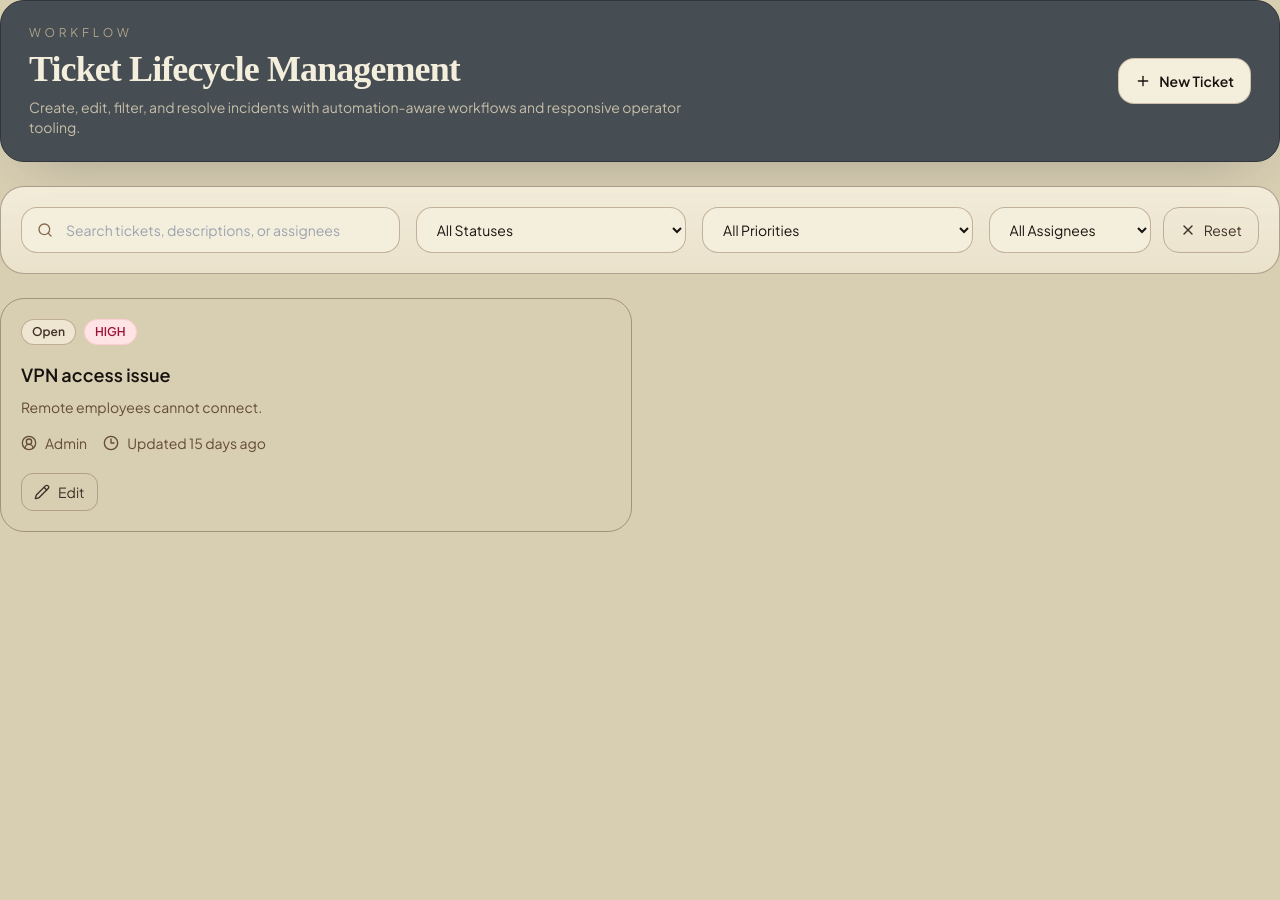
Test: TicketsPage RBAC and CRUD flows › opens the create modal and submits a new ticket
Click the button "New Ticket". click: {"x": 1185, "y": 81}
box: [1118,58,1251,104]
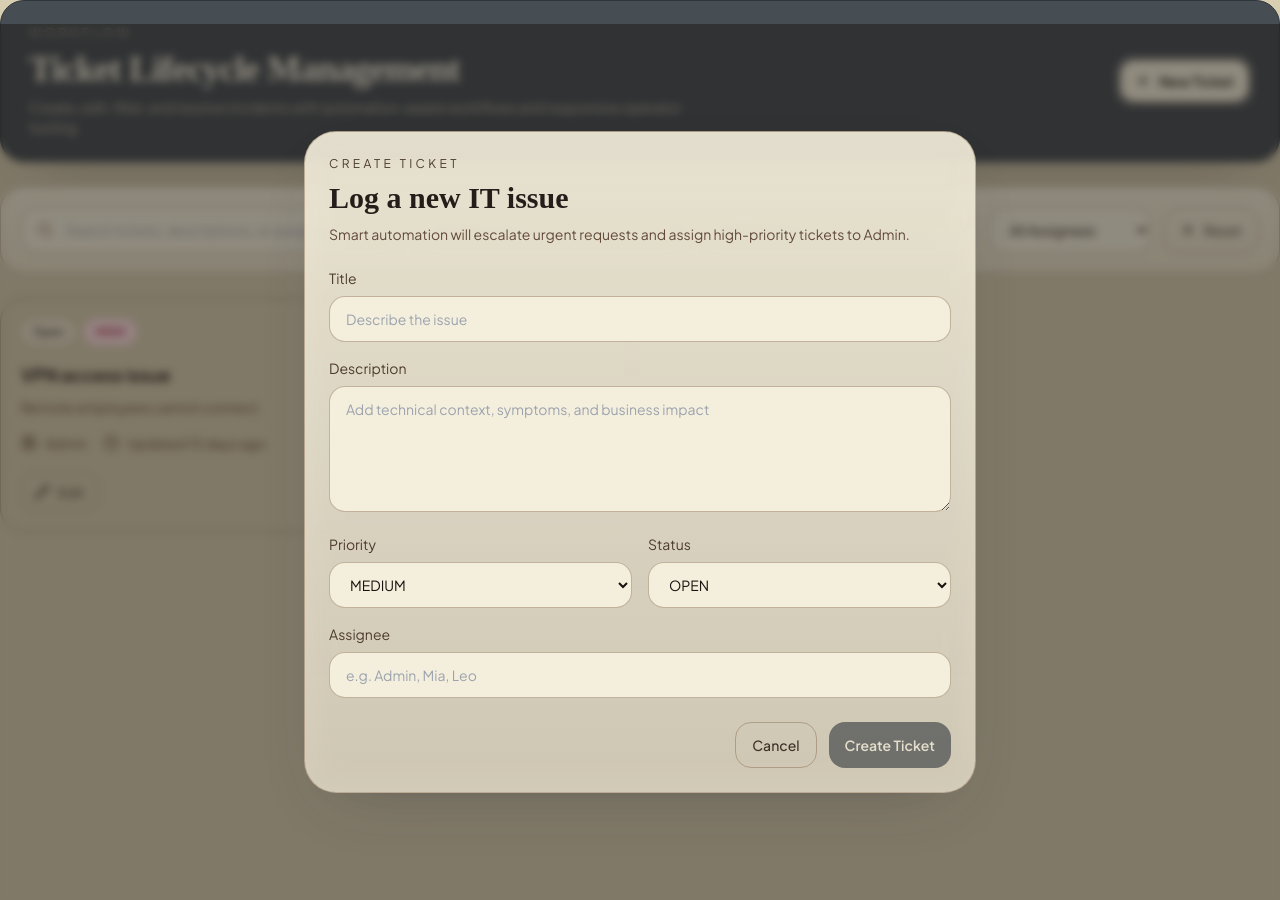
expect the heading "Log a new IT issue" is shown: met, box [329,181,568,214]
Type "New laptop request" into the field labelled "Title". click: {"x": 640, "y": 319}
box: [329,296,951,342]
Type "Need a high-spec laptop for development" into the text box labelled "Description". click: {"x": 640, "y": 449}
box: [329,386,951,512]
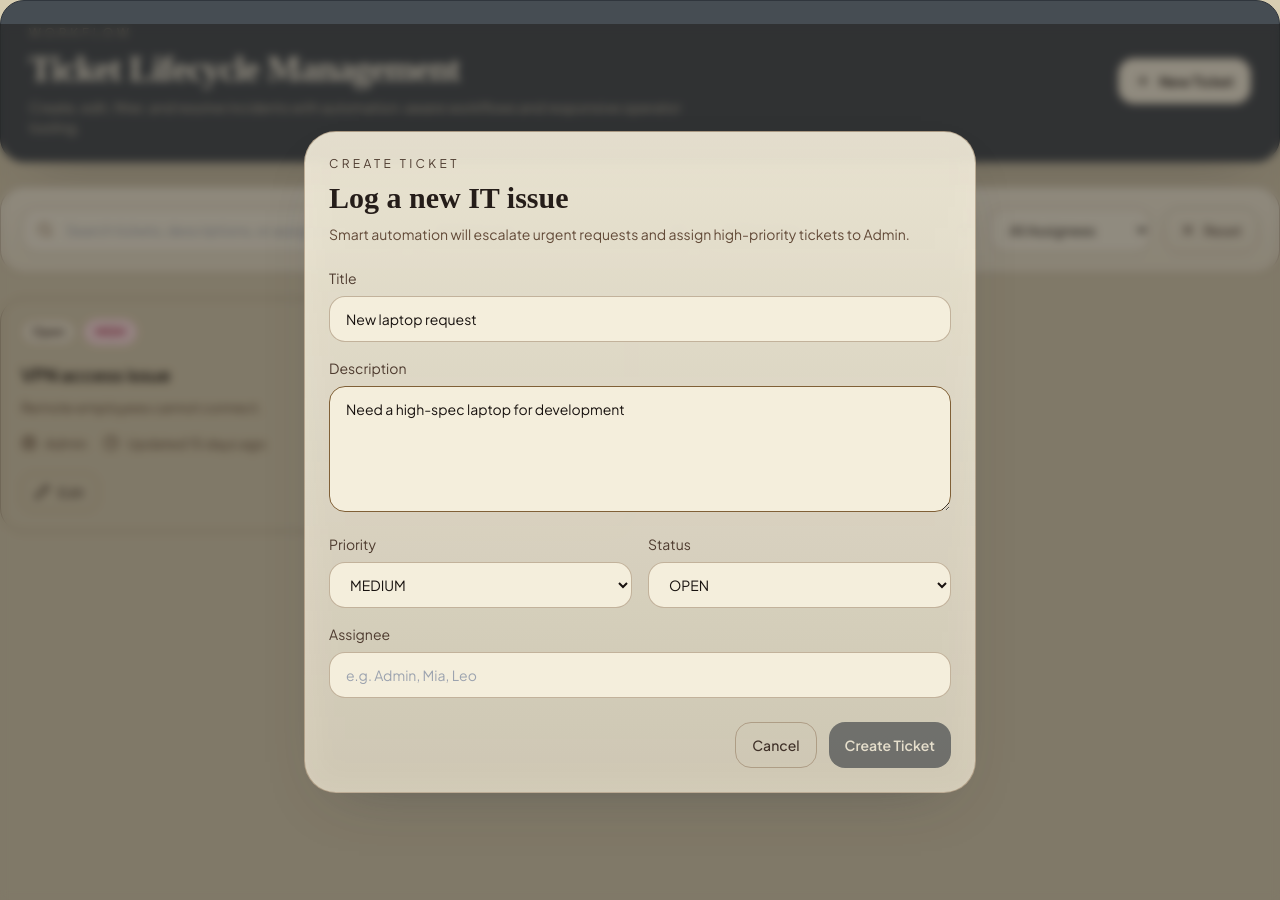
Select "MEDIUM" in the dropdown labelled "Priority". click: {"x": 480, "y": 585}
box: [329,562,632,608]
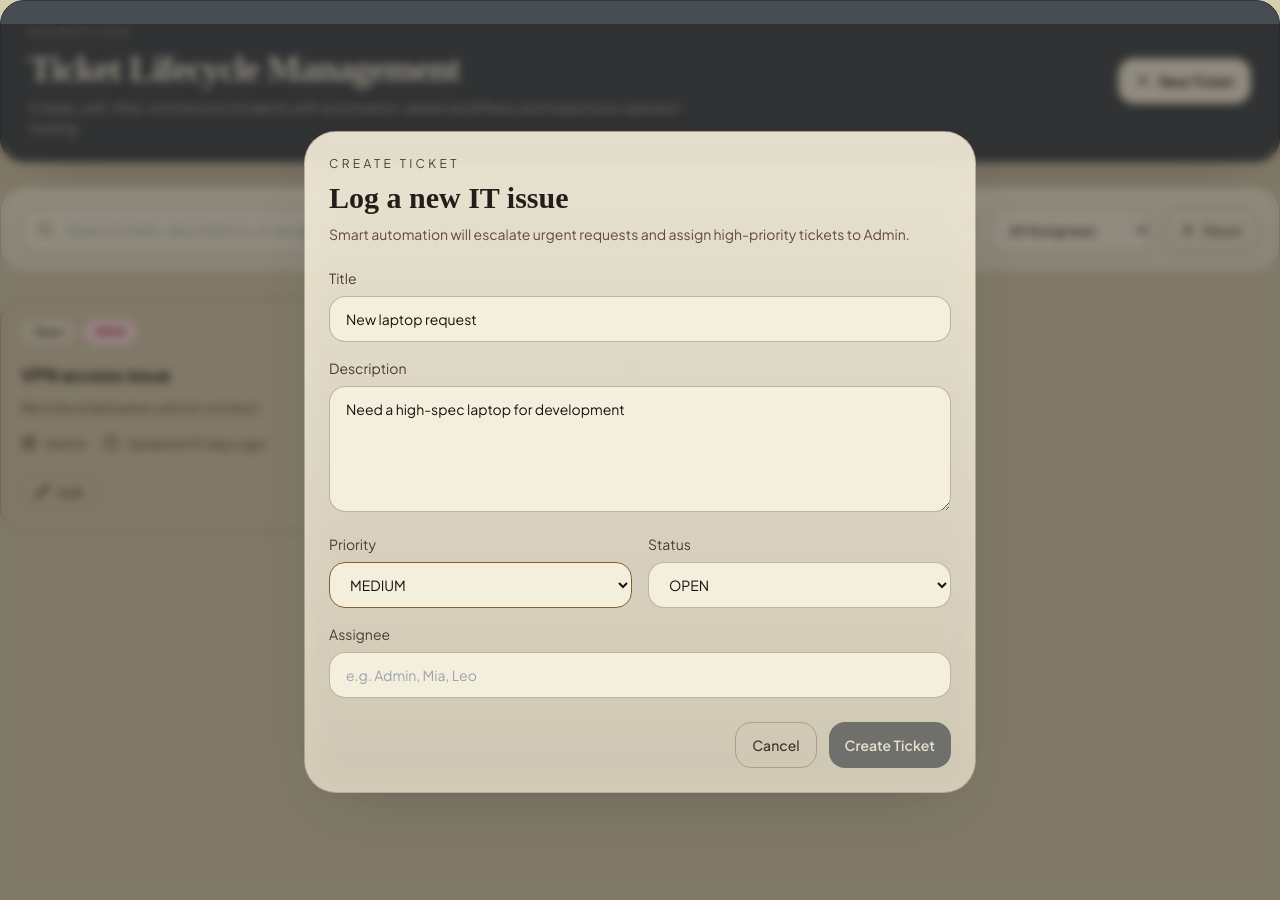
Select "OPEN" in the dropdown labelled "Status". click: {"x": 800, "y": 585}
box: [648,562,951,608]
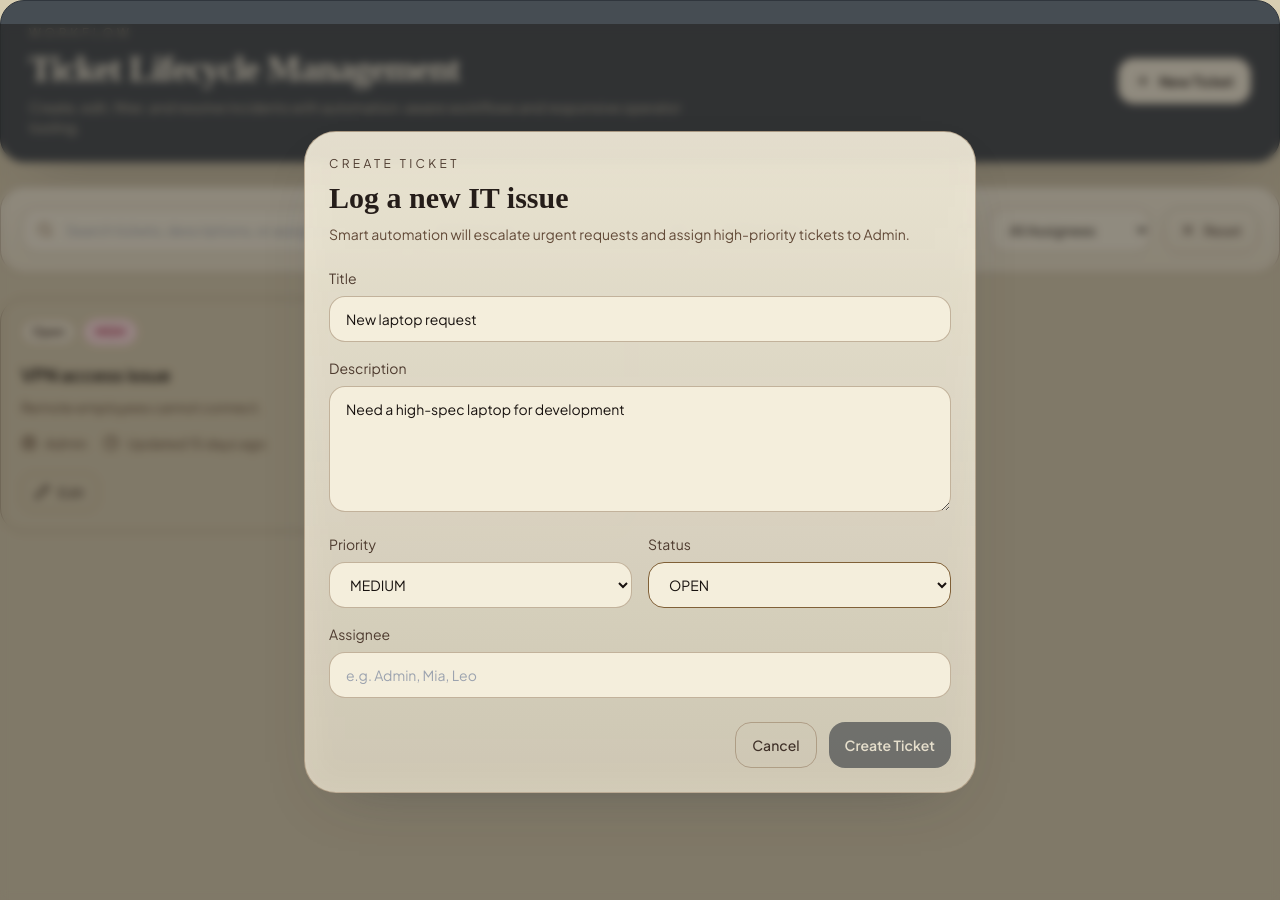
Type "Marco" into the field labelled "Assignee". click: {"x": 640, "y": 675}
box: [329,652,951,698]
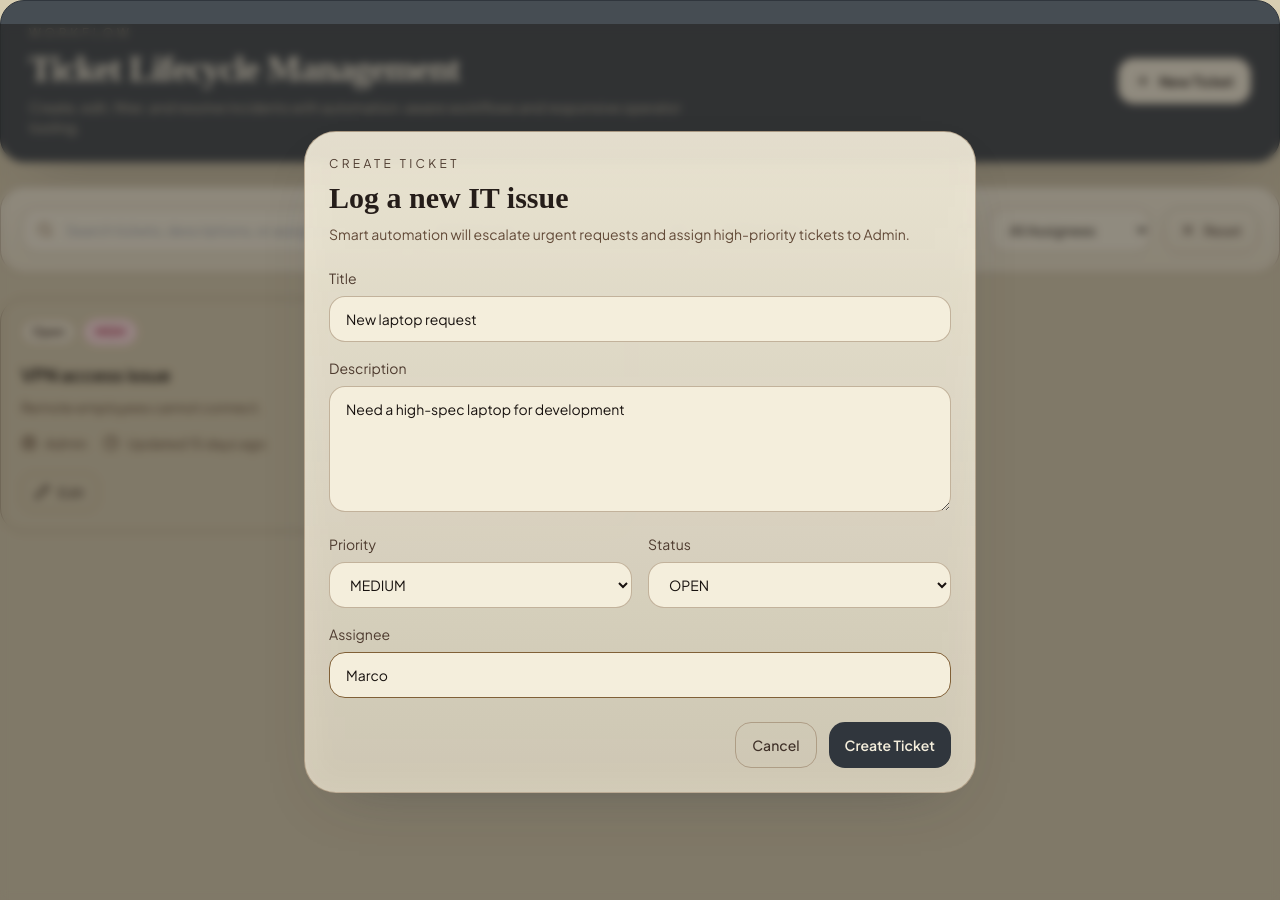
Click the button "Create Ticket". click: {"x": 890, "y": 745}
box: [829,722,951,768]
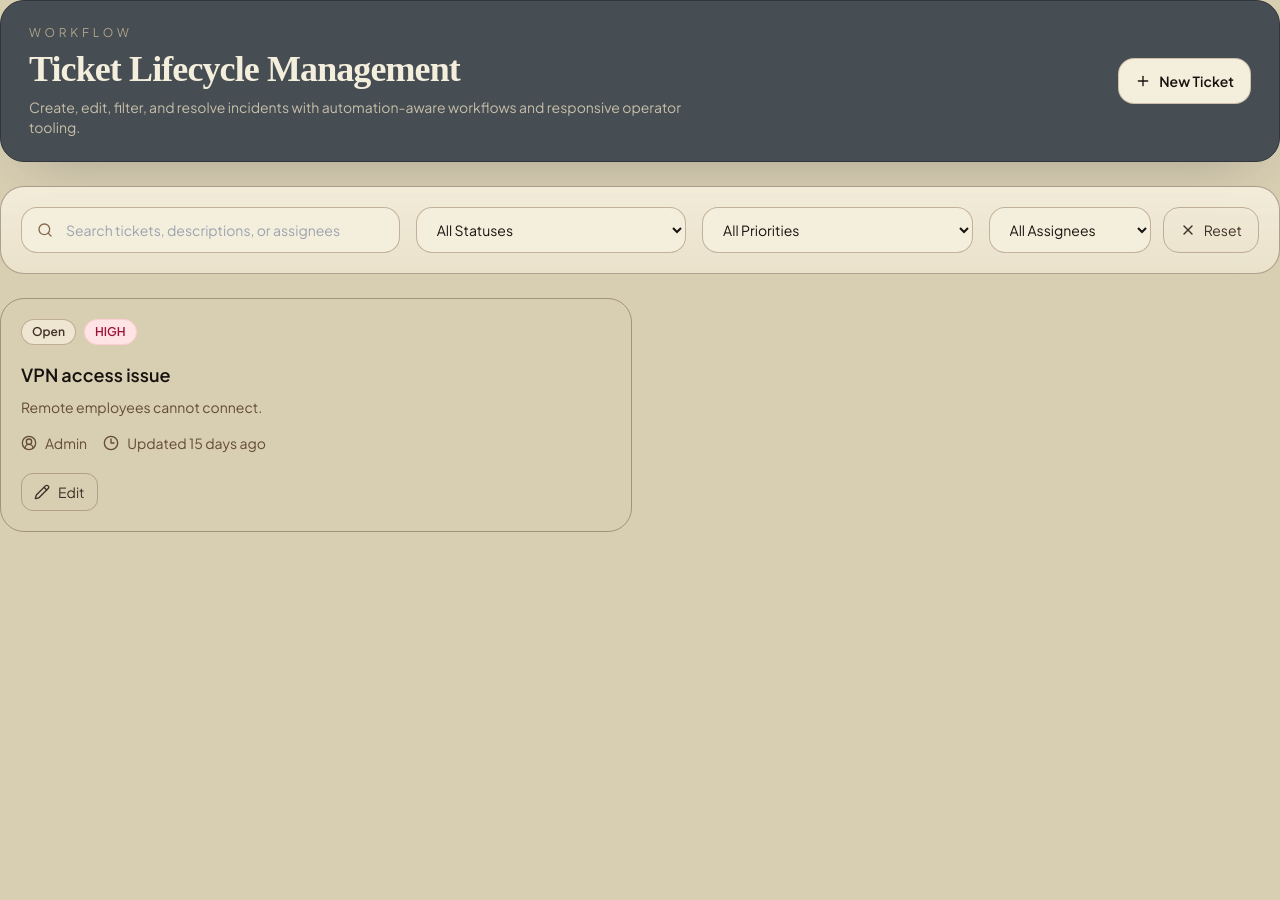
expect the heading "Log a new IT issue" is gone: met
